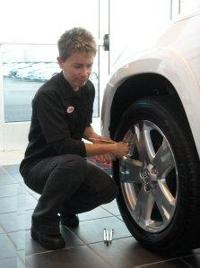person without safety: (17, 27, 113, 251)
